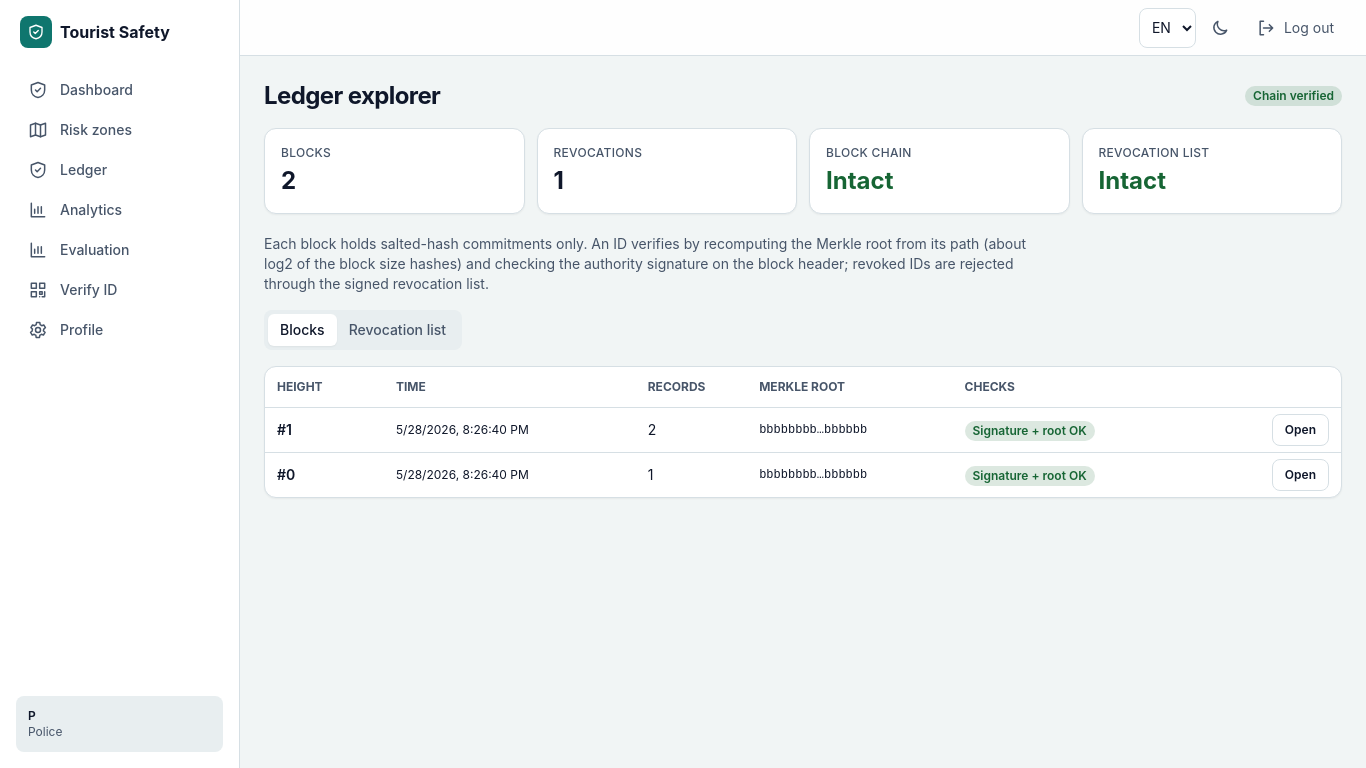
it: revocation tab lists entries; empty state explains itself
This screenshot has width=1366, height=768.
Click the tab "Revocation list". click: (397, 330)
box: [337, 314, 458, 346]
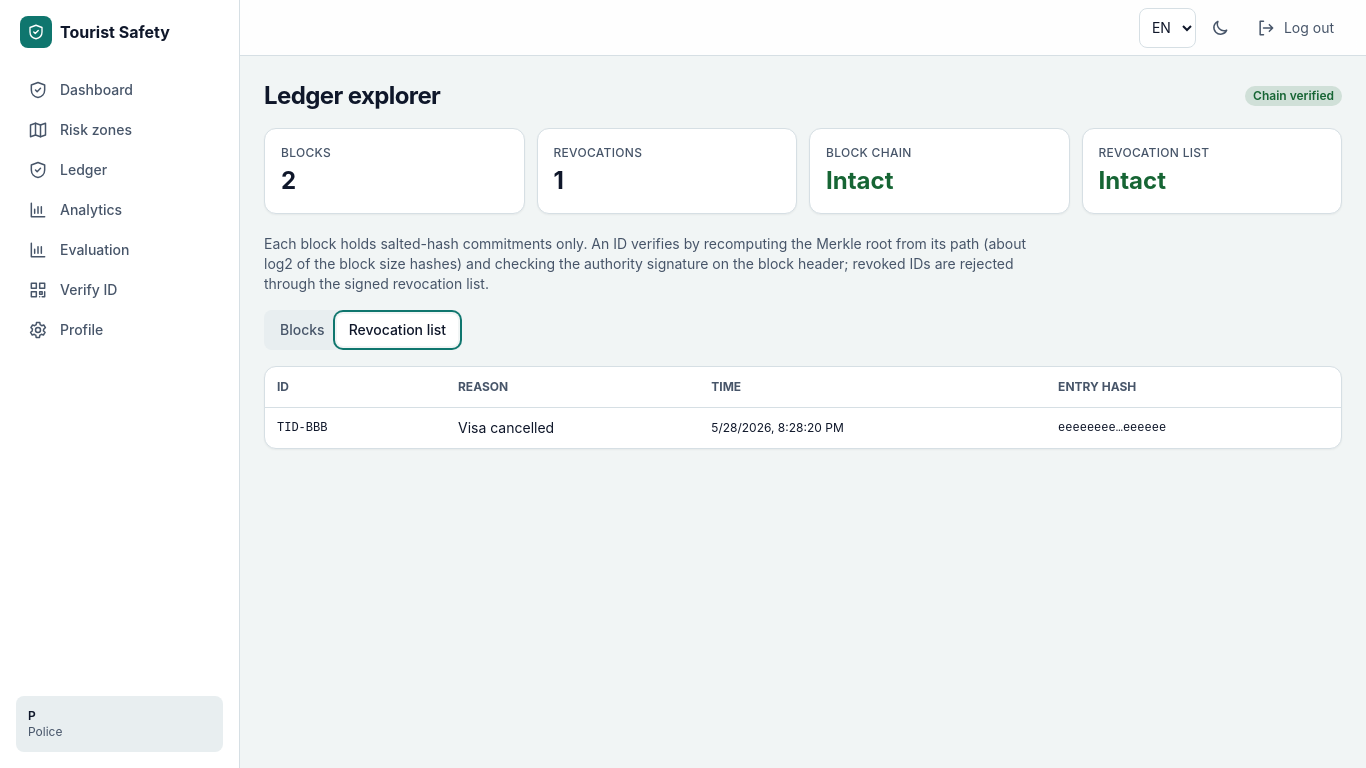
expect the text "Visa cancelled" is shown: met, box [457, 408, 710, 448]
